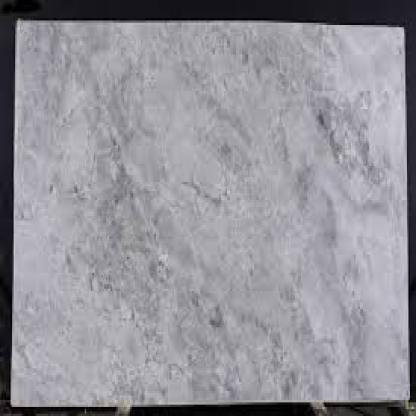Metamorphic_Quartize: (12, 9, 409, 414)
